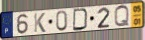0: (56, 10, 69, 32)
2: (96, 6, 111, 29)
6: (16, 13, 30, 35)
D: (72, 8, 90, 32)
K: (33, 12, 46, 33)
Q: (113, 4, 130, 29)
